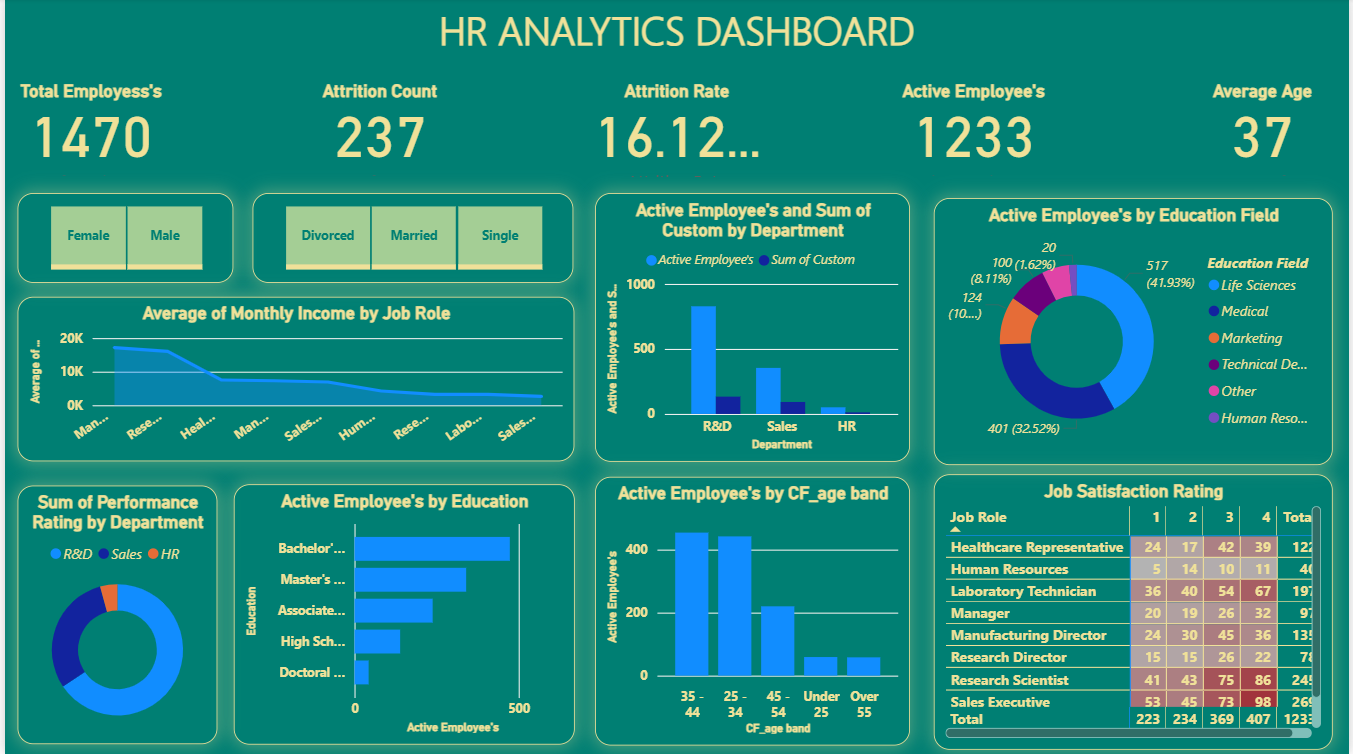

The page's visual inventory and layout, read from the dashboard file:
{"tool":"powerbi","page":{"name":"Page 1","canvas":[1280,720],"ordinal":0},"visuals":[{"type":"card","title":"Active Employee''s","fields":{"Values":["HR data.Active Employee's"]},"box":[840.7,78.3,164.3,95.7],"z":0},{"type":"card","title":"Attrition Rate","fields":{"Values":["HR data.Attrition Rate"]},"box":[550,78.3,180,96.7],"z":1000},{"type":"card","title":"Attrition Count","fields":{"Values":["Sum(HR data.Custom)"]},"box":[275,78.3,164.3,95.7],"z":2000},{"type":"card","title":"Total Employess''s","fields":{"Values":["Sum(HR data.Employee Count)"]},"box":[0,78.3,164.3,95.7],"z":3000},{"type":"card","title":"Average Age","fields":{"Values":["Avg(HR data.Age)"]},"box":[1115.7,78.3,164.3,95.7],"z":4000},{"type":"textbox","box":[0,0,1280,74],"z":5000},{"type":"clusteredColumnChart","fields":{"Y":["HR data.Active Employee's","Sum(HR data.Custom)"],"Category":["HR data.Department"]},"box":[562,186,300,256],"z":6000},{"type":"donutChart","fields":{"Y":["HR data.Active Employee's"],"Category":["HR data.Education Field"]},"box":[884,190,380,254],"z":7000},{"type":"columnChart","fields":{"Y":["HR data.Active Employee's"],"Category":["HR data.CF_age band"]},"box":[562,456,300,256],"z":8000},{"type":"pivotTable","title":"Job Satisfaction Rating","fields":{"Rows":["HR data.Job Role"],"Columns":["HR data.Job Satisfaction"],"Values":["HR data.Active Employee's"]},"box":[884,454,380,262],"z":9000},{"type":"donutChart","fields":{"Y":["Sum(HR data.Performance Rating)"],"Category":["HR data.Department"]},"box":[12,464,190,246],"z":10000},{"type":"clusteredBarChart","fields":{"Category":["HR data.Education"],"Y":["HR data.Active Employee's"]},"box":[217.8,463.3,324.4,247.8],"z":11000},{"type":"areaChart","fields":{"Category":["HR data.Job Role"],"Y":["Avg(HR data.Monthly Income)"]},"box":[11.4,284.3,530,157.1],"z":11001},{"type":"slicer","fields":{"Values":["HR data.Gender"]},"box":[11.4,185.7,205.7,85.7],"z":11002},{"type":"slicer","fields":{"Values":["HR data.Marital Status"]},"box":[235.7,185.7,305.7,85.7],"z":11003}]}

Visuals, with their boxes in screenshot pixels (x1, y1, x2, y2), scaled from the page's 1280x720 canvas onto the 1353x754 screenshot:
"Active Employee''s" card: box(889, 82, 1062, 182)
"Attrition Rate" card: box(581, 82, 772, 183)
"Attrition Count" card: box(291, 82, 464, 182)
"Total Employess''s" card: box(0, 82, 174, 182)
"Average Age" card: box(1179, 82, 1352, 182)
textbox: box(0, 0, 1352, 77)
clusteredColumnChart - HR data.Active Employee's x Sum(HR data.Custom): box(594, 195, 911, 463)
donutChart - HR data.Active Employee's x HR data.Education Field: box(934, 199, 1336, 465)
columnChart - HR data.Active Employee's x HR data.CF_age band: box(594, 478, 911, 746)
"Job Satisfaction Rating" pivotTable: box(934, 475, 1336, 750)
donutChart - Sum(HR data.Performance Rating) x HR data.Department: box(13, 486, 214, 744)
clusteredBarChart - HR data.Education x HR data.Active Employee's: box(230, 485, 573, 745)
areaChart - HR data.Job Role x Avg(HR data.Monthly Income): box(12, 298, 572, 462)
slicer - HR data.Gender: box(12, 194, 229, 284)
slicer - HR data.Marital Status: box(249, 194, 572, 284)
